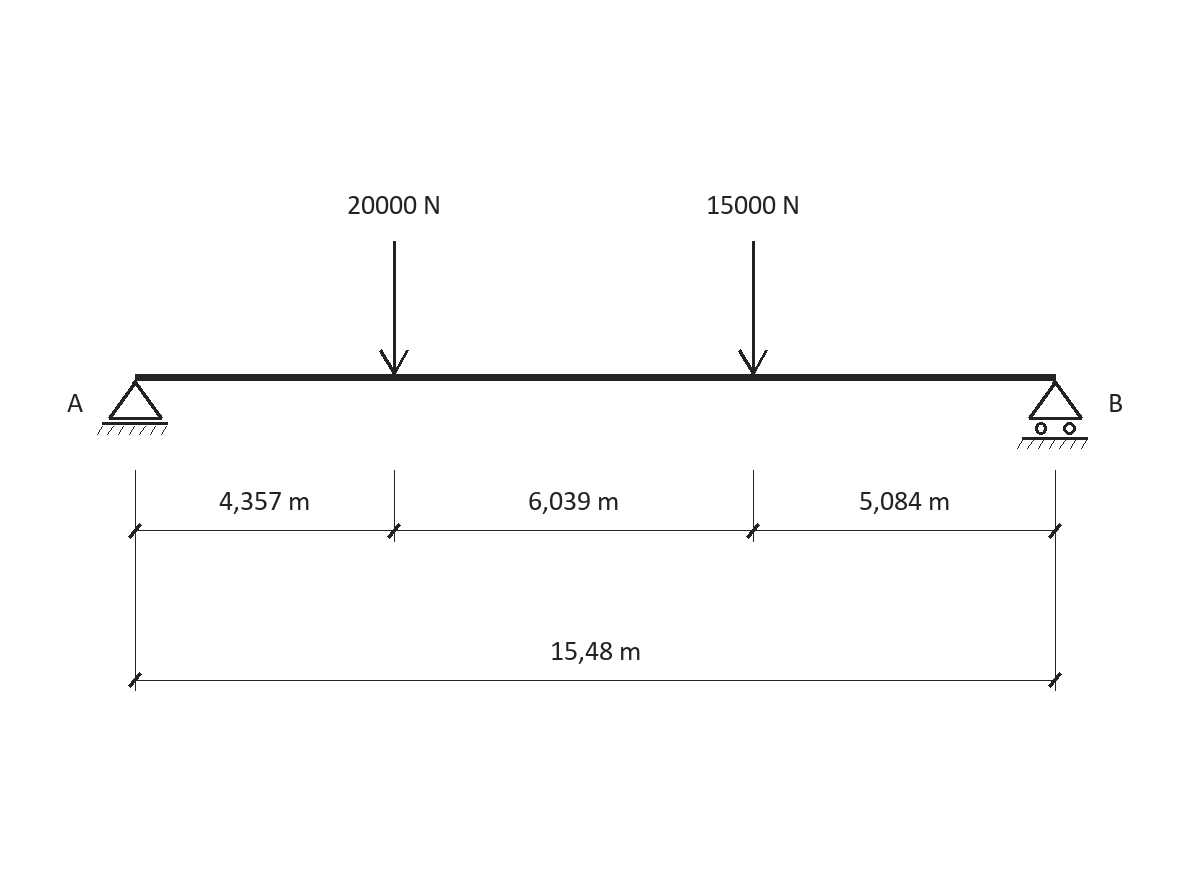pin_support: (97, 380, 168, 435)
point_load: (379, 241, 409, 375), (738, 241, 768, 375)
roller_support: (1017, 380, 1088, 449)
